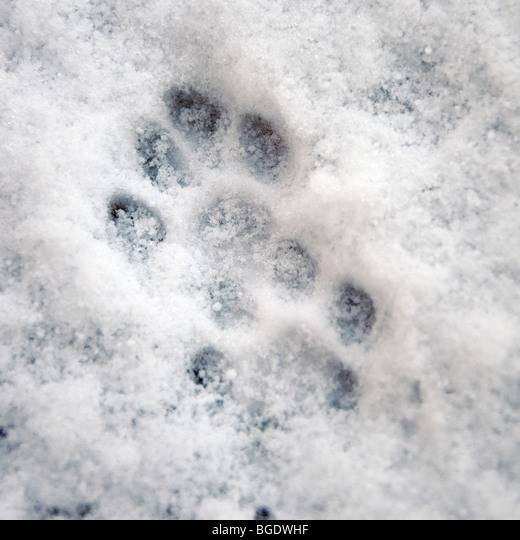fox: (187, 239, 376, 427), (107, 79, 281, 245)
